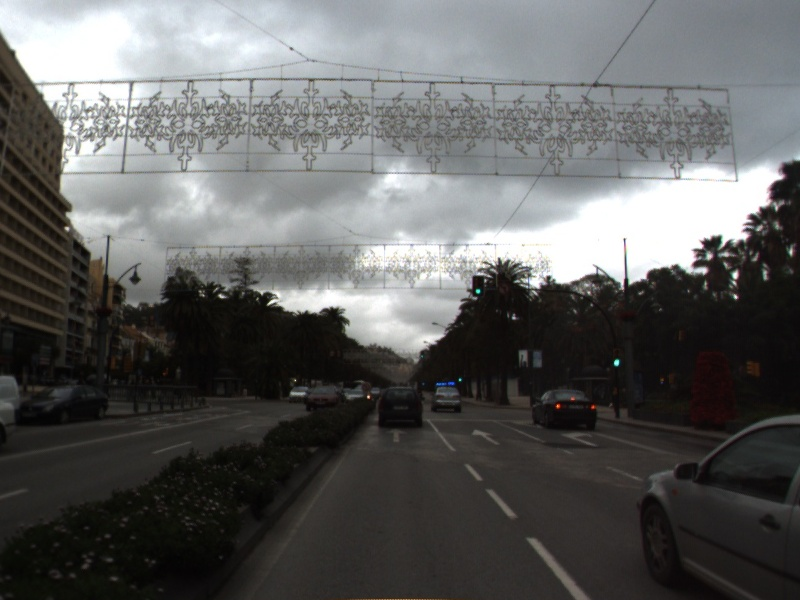RIGHT: (558, 429, 602, 449)
STRAIGHT: (469, 427, 503, 447), (383, 426, 410, 444)
